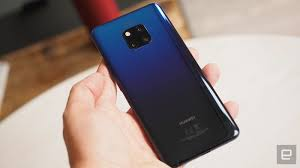huawei: (89, 1, 242, 166)
